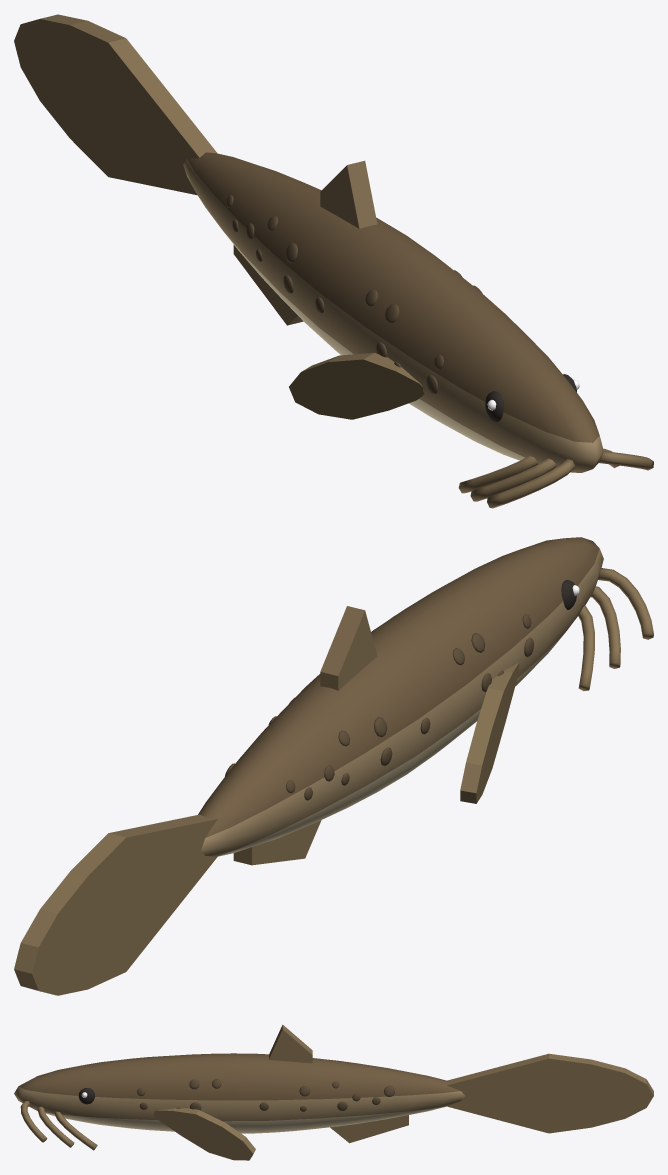
The model's file is fish-loach.glb.
3 renders of one model, top to bottom at view 1: azimuth 30°, elevation 25°; view 2: azimuth 150°, elevation 25°; view 3: azimuth 270°, elevation 25°, orthographic. The views are drawn at different scales.
Parts seen in each view (by area): view 1: fish; view 2: fish; view 3: fish.
Boxes of the visible parts, x1,y1,x2,y2 form: fish: (14, 14, 653, 508); fish: (14, 537, 653, 995); fish: (14, 1024, 653, 1160).
Bounding box in the file's own units: 0.0623 × 0.0648 × 0.33.
